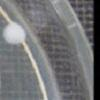white: (1, 20, 28, 46)
